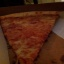pizza: (2, 9, 56, 64)
